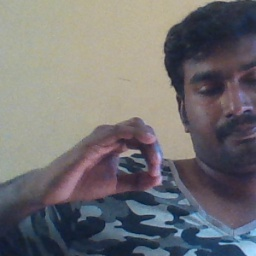O: (58, 114, 167, 207)
